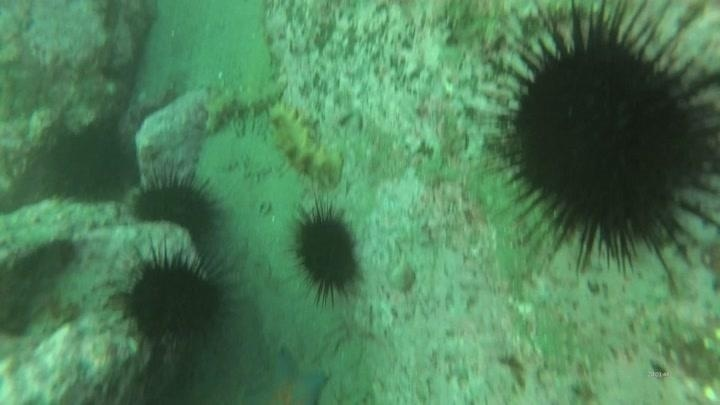echinus: (487, 8, 720, 276), (120, 249, 232, 350), (45, 121, 139, 205), (288, 202, 364, 305), (128, 169, 223, 243)
holothurian: (265, 100, 346, 190), (198, 77, 287, 135)
starfish: (245, 346, 332, 404)
